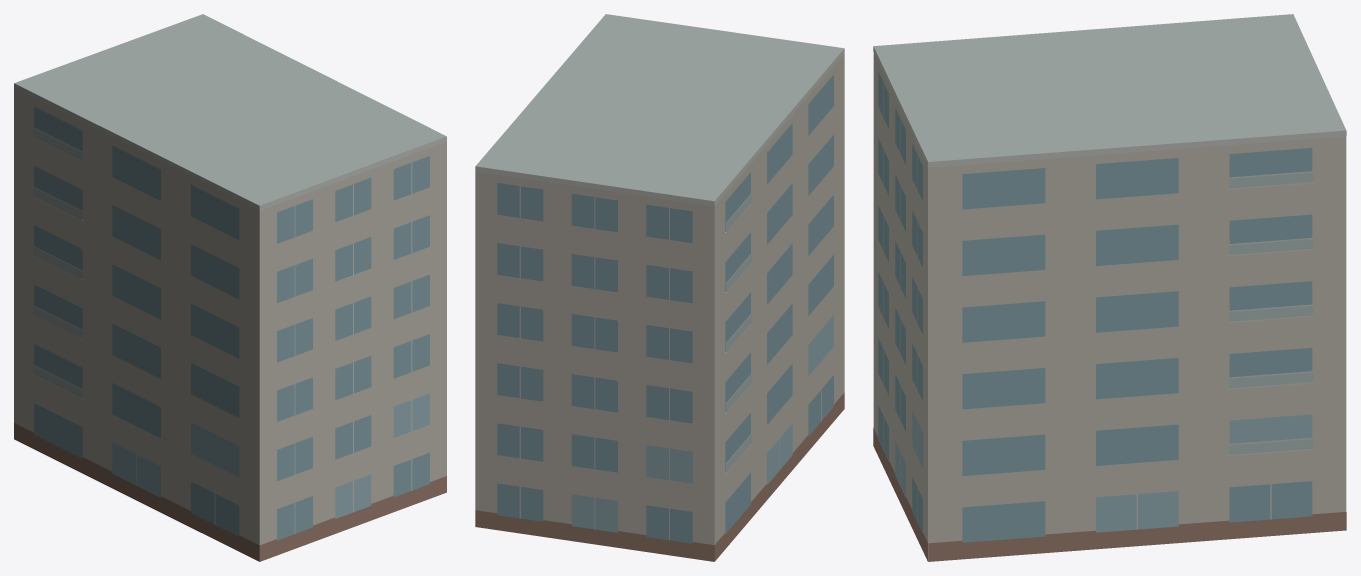
The model's file is survey-upis-32708455.glb.
3 views of the same model, side by side, from view 1: azimuth 30°, elevation 25°; view 2: azimuth 150°, elevation 25°; view 3: azimuth 270°, elevation 25° (orthographic). The views are drawn at different scales.
Visible parts, largest first — view 1: survey-upis-32708455.tmp; view 2: survey-upis-32708455.tmp; view 3: survey-upis-32708455.tmp.
Part boxes in pixels (<box>): survey-upis-32708455.tmp: <box>14,14,446,561</box>; survey-upis-32708455.tmp: <box>475,14,844,561</box>; survey-upis-32708455.tmp: <box>873,14,1346,561</box>.
Size of the model in its own units: 13.66 by 17.2 by 18.45.
